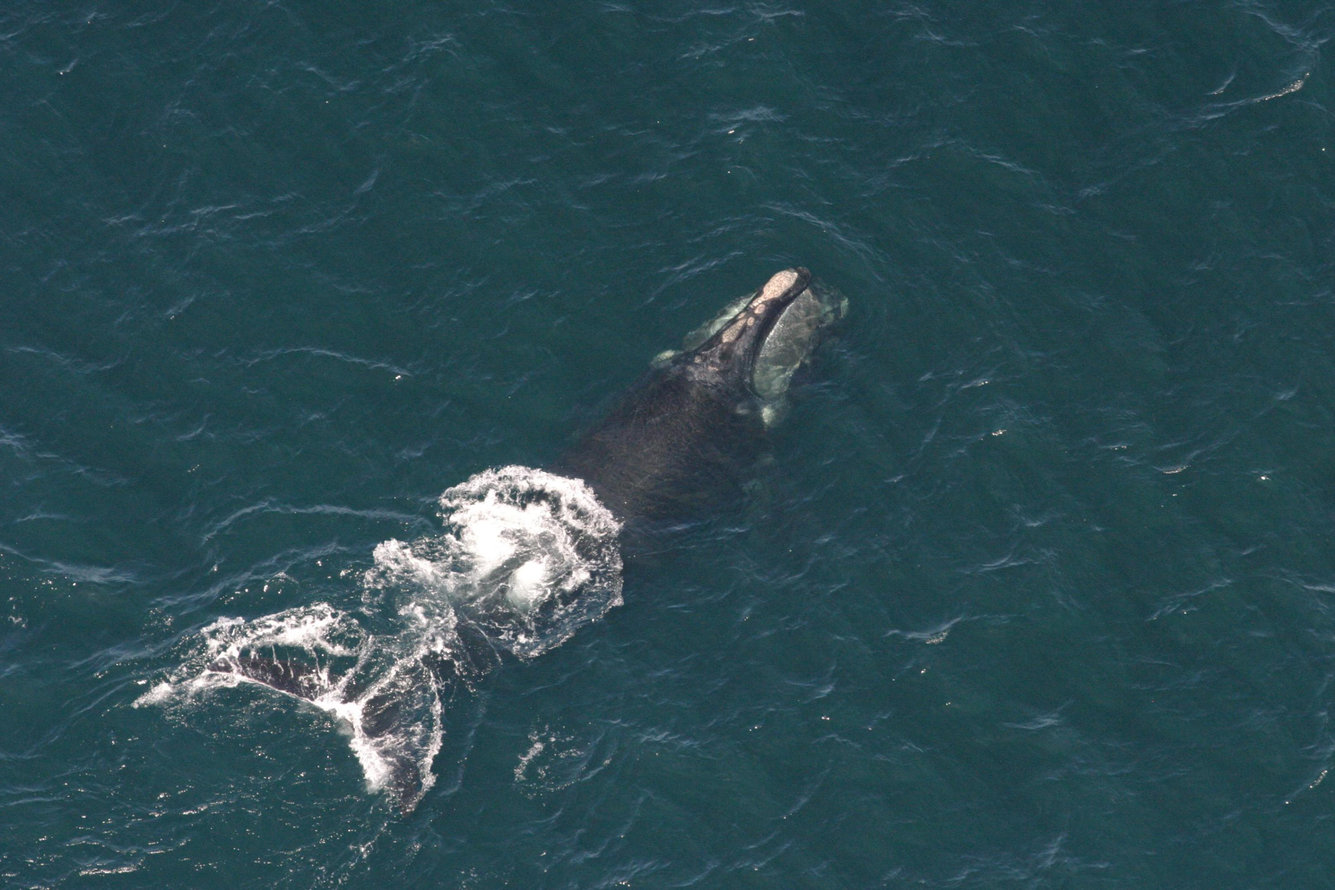whale: (182, 252, 866, 850)
